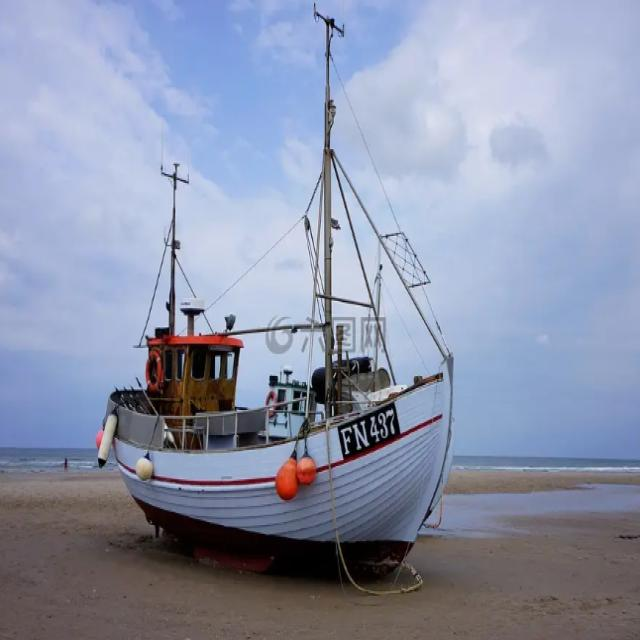fishing boat: (93, 36, 468, 568)
